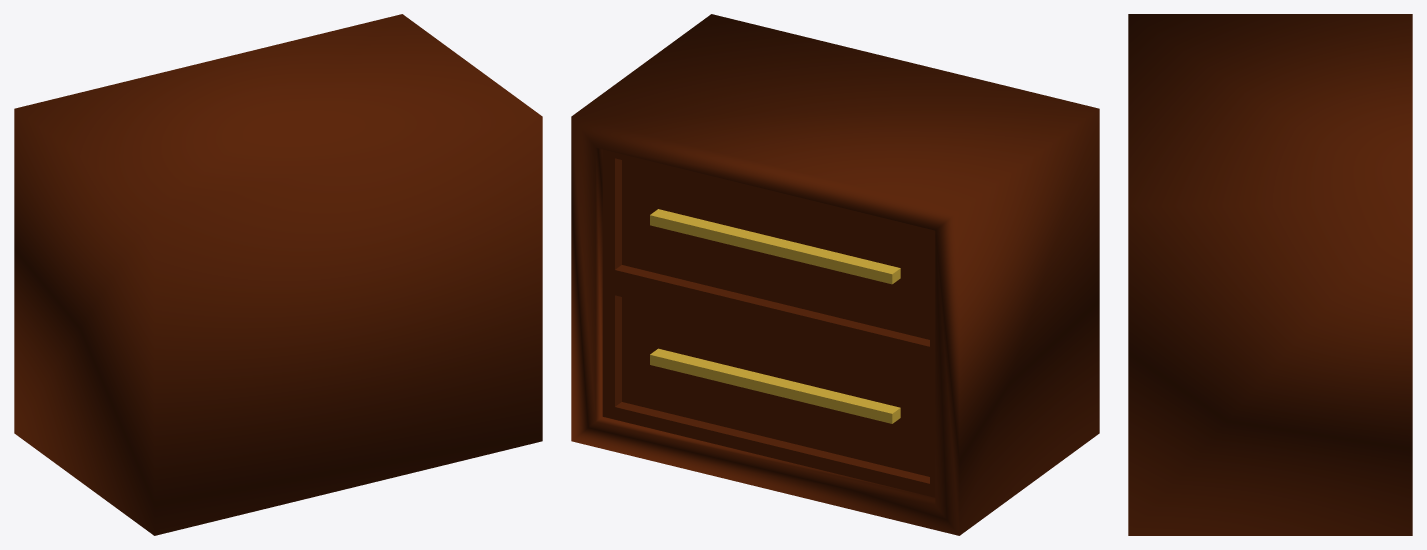
The model's file is Blockout_Dresser_04.fbx.
The picture shows the model from 3 angles, left to right: view 1: azimuth 30°, elevation 25°; view 2: azimuth 150°, elevation 25°; view 3: azimuth 270°, elevation 25°; orthographic projection.
Visible parts, largest first — view 1: pasted__pCube2; view 2: pasted__pCube2; view 3: pasted__pCube2.
Boxes of the visible parts, x1,y1,x2,y2 form: pasted__pCube2: [14, 14, 542, 535]; pasted__pCube2: [571, 14, 1099, 535]; pasted__pCube2: [1128, 14, 1412, 535].
Bounding box in the file's own units: 80 × 64 × 50.
